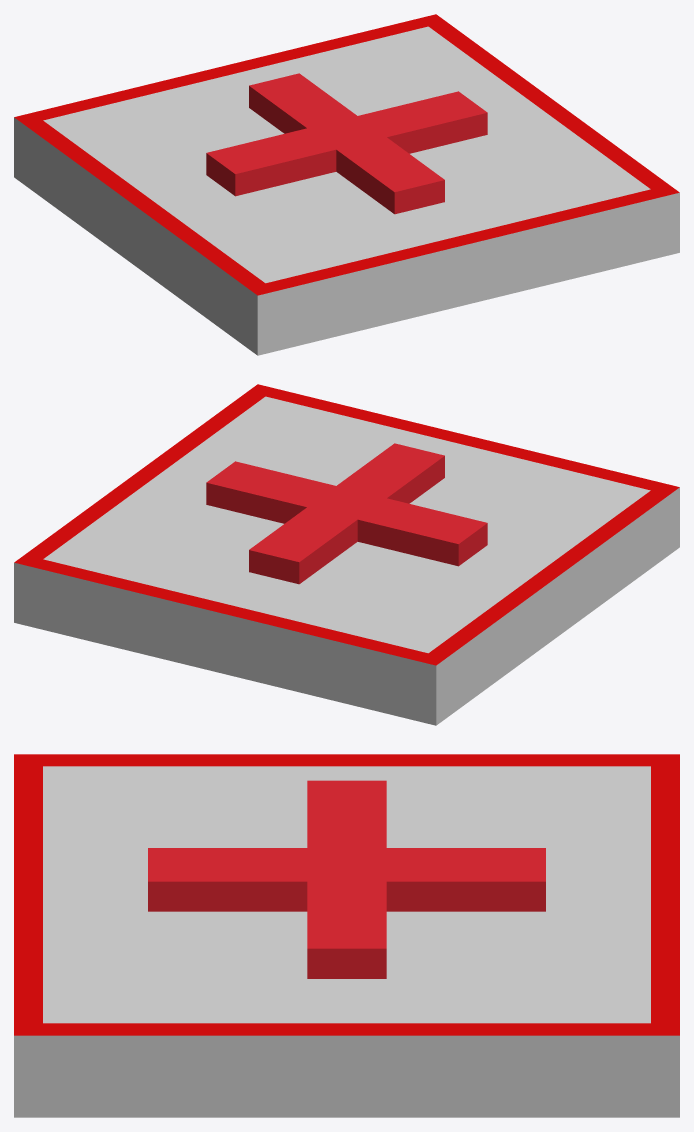
The model's file is HealthPowerUp.fbx.
The picture shows the model from 3 angles, top to bottom: view 1: azimuth 30°, elevation 25°; view 2: azimuth 150°, elevation 25°; view 3: azimuth 270°, elevation 25°; orthographic projection. The views are drawn at different scales.
Parts seen in each view (by area): view 1: Cube.001; view 2: Cube.001; view 3: Cube.001.
Part boxes in pixels (bbox=[...]): Cube.001: bbox=[14, 14, 679, 355]; Cube.001: bbox=[14, 384, 679, 725]; Cube.001: bbox=[14, 754, 679, 1117].
Size of the model in its own units: 1085 by 202 by 1085.
